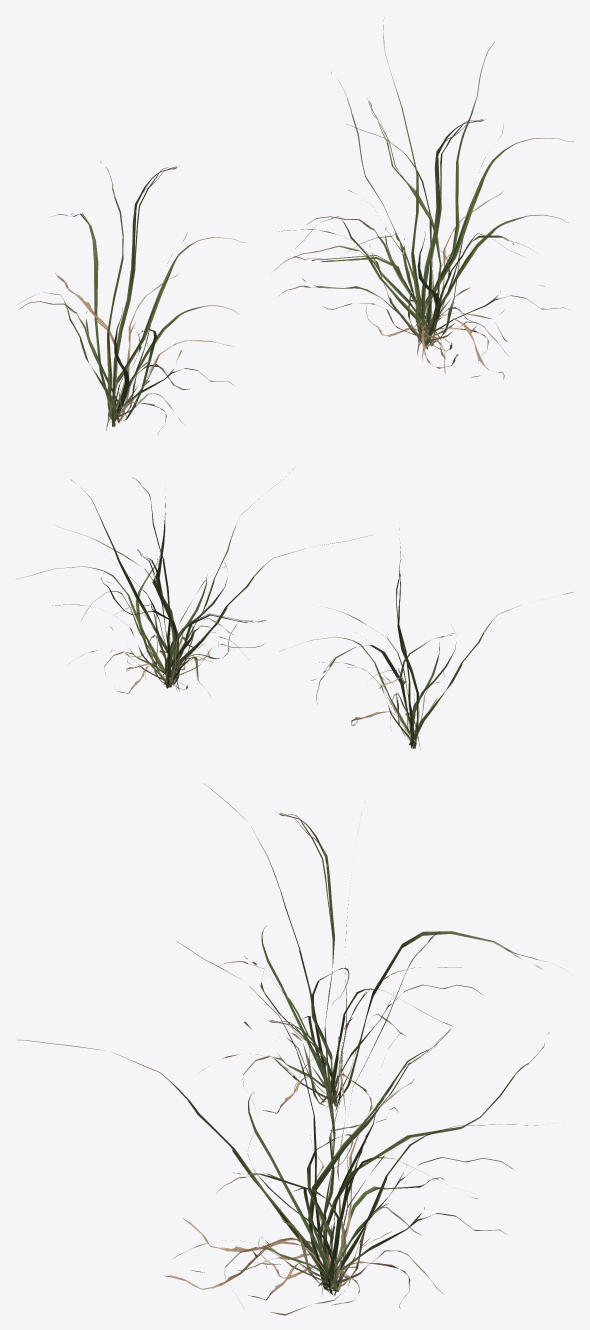
The model's file is grass_tuft_a.glb.
3 renders of one model, top to bottom at view 1: azimuth 30°, elevation 25°; view 2: azimuth 150°, elevation 25°; view 3: azimuth 270°, elevation 25°, orthographic. The views are drawn at different scales.
Visible parts, largest first — view 1: grass_medium_02_c_w; view 2: grass_medium_02_c_w; view 3: grass_medium_02_c_w.
Part boxes in pixels (x1,y1,x2,y2): grass_medium_02_c_w: (19,20,574,433); grass_medium_02_c_w: (16,469,573,749); grass_medium_02_c_w: (18,783,561,1315).
Bounding box in the file's own units: 0.9551 × 0.4602 × 0.6256.
1 material, 1 textured.
